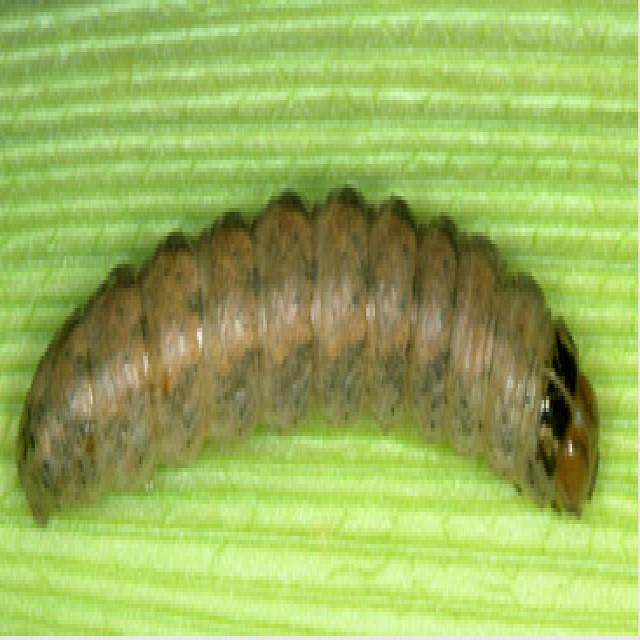cornborer-Larva-: (14, 182, 611, 570)
